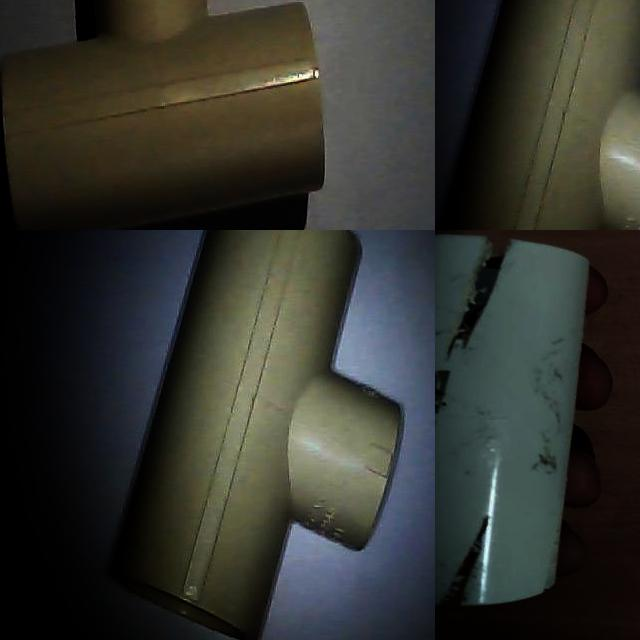Defective: (454, 232, 534, 350), (435, 489, 491, 620)
T Joint: (108, 230, 405, 640), (0, 0, 324, 230)
